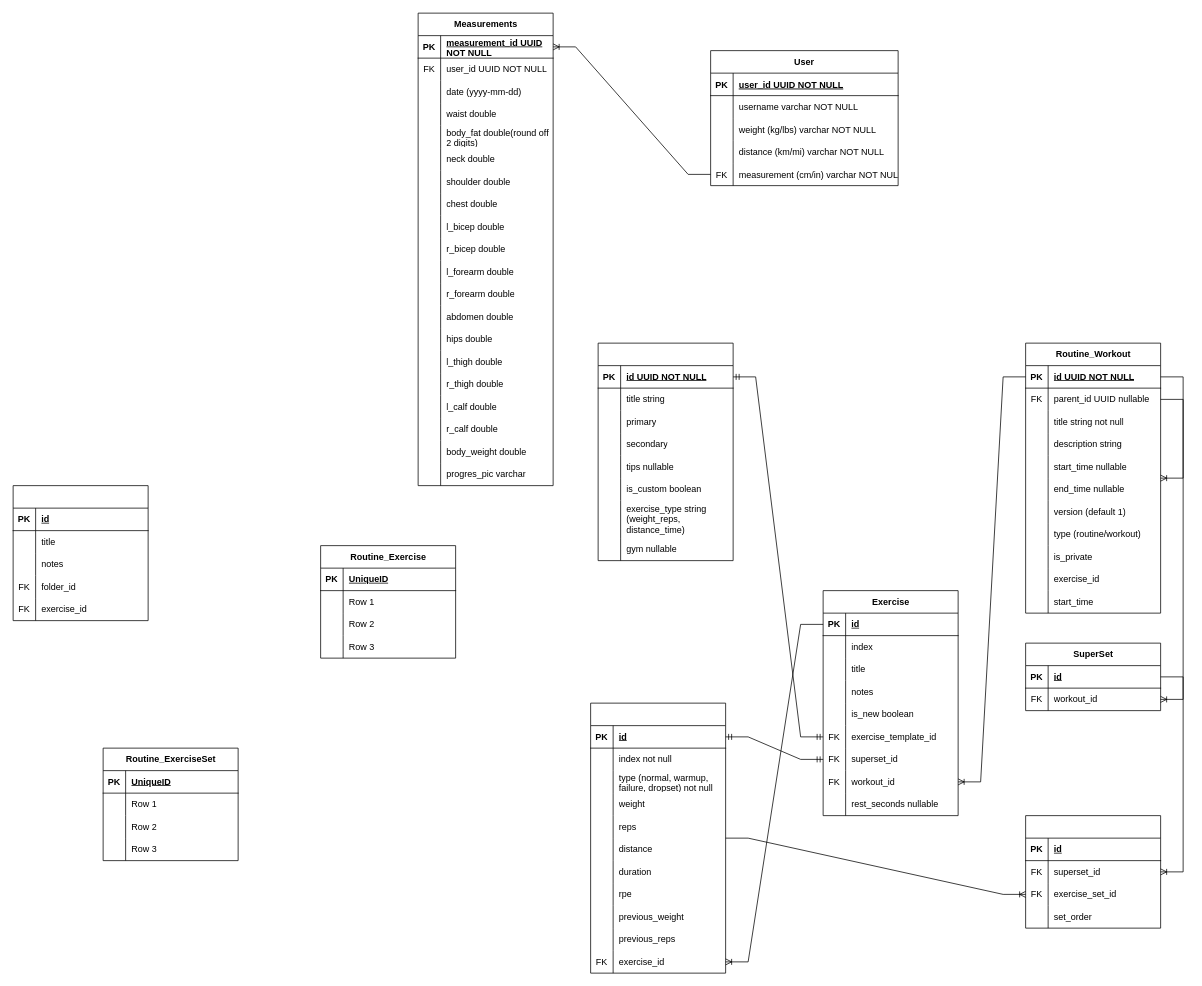
Some shapes in this 1202 by 986 pixel diagram are drawn without their labels. Each missing label, with the box of its shape:
ExerciseSet: (590, 702, 726, 973)
ExerciseTemplate: (597, 342, 733, 561)
Routine: (12, 485, 148, 621)
Superset_ExerciseSet: (1025, 815, 1161, 928)
